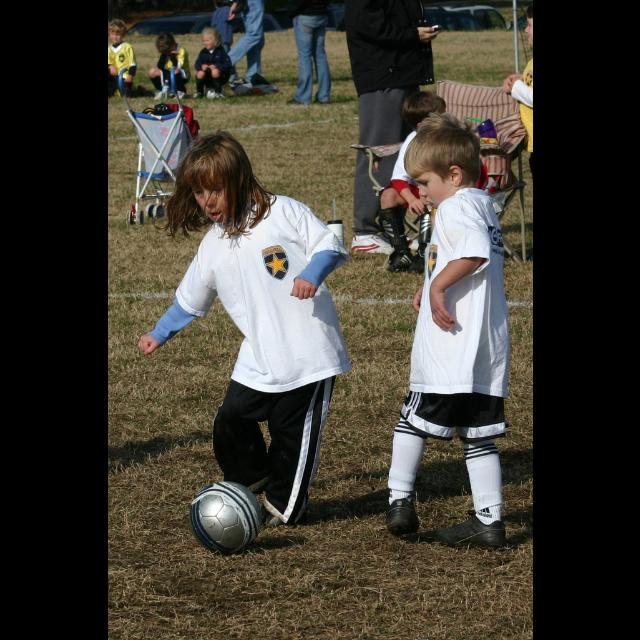Football: (186, 480, 260, 556)
